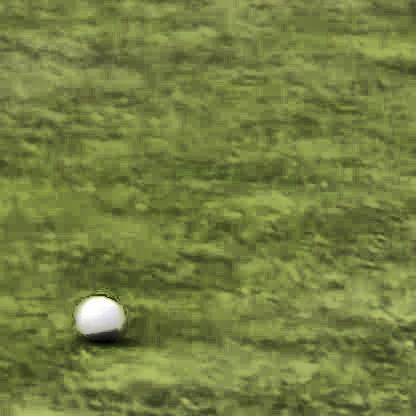golfball: (74, 291, 124, 339)
